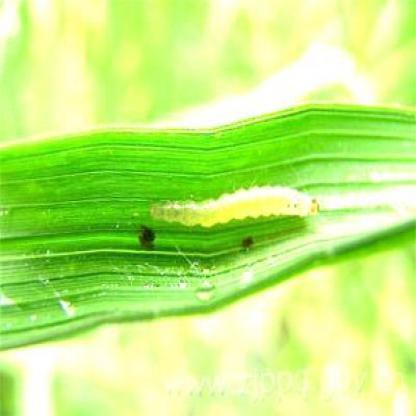leaf-folder: (131, 170, 322, 242)
